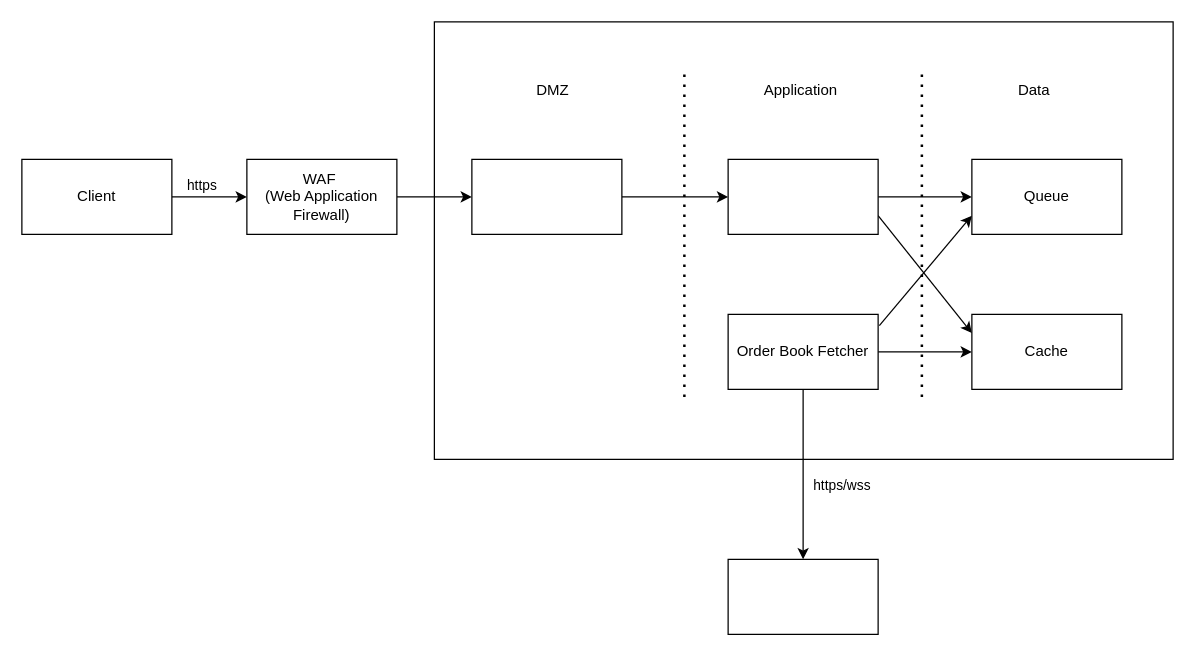
Some shapes in this 1195 by 656 pixel diagram are drawn without their labels. The centre of each missing label's shape, as x and y in pixels:
Currency Exchanges: (x=802, y=596)
Load Balancer: (x=546, y=196)
Trade Route API: (x=802, y=196)
